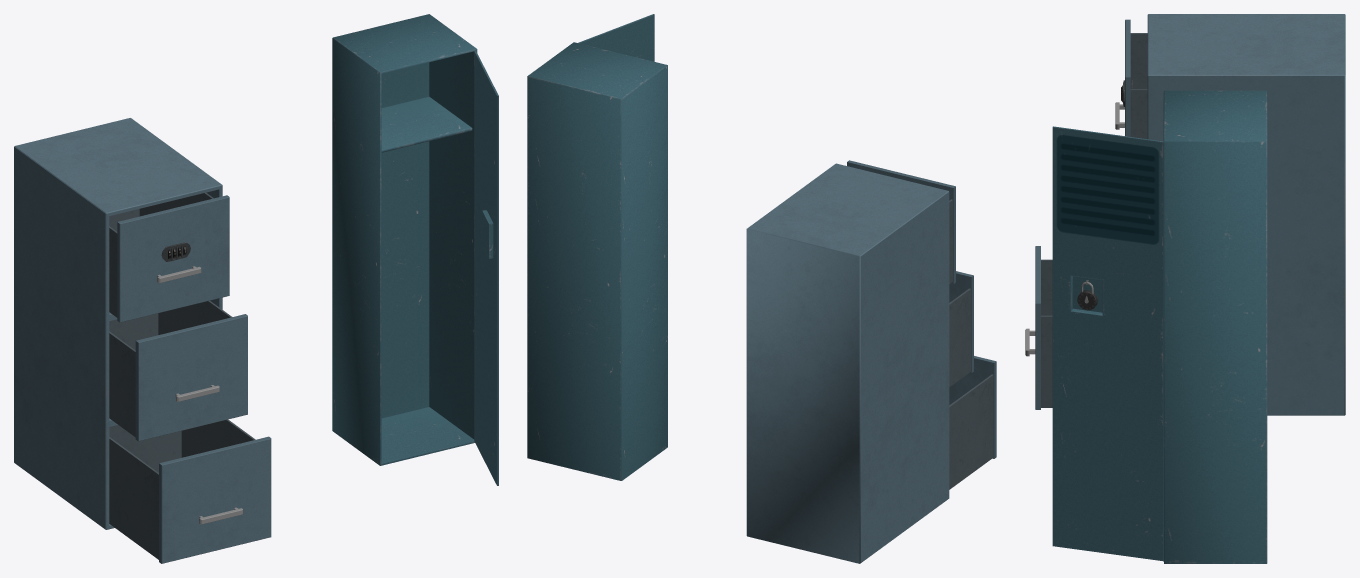
3 renders of one model, left to right at view 1: azimuth 30°, elevation 25°; view 2: azimuth 150°, elevation 25°; view 3: azimuth 270°, elevation 25°, orthographic. The views are drawn at different scales.
Parts seen in each view (by area): view 1: Locker2, Locker1, Drawer_Bottom_Locker1, Drawer_Middle_Locker1, Drawer_Top_Locker1, Door_Locker2; view 2: Locker1, Locker2, Drawer_Bottom_Locker1, Drawer_Middle_Locker1, Door_Locker2, Drawer_Top_Locker1; view 3: Locker2, Door_Locker2, Locker1, Drawer_Bottom_Locker1, Drawer_Top_Locker1.
Part boxes in pixels (bbox=[...]): Locker2: bbox=[332, 14, 477, 465]; Locker1: bbox=[14, 118, 222, 529]; Drawer_Bottom_Locker1: bbox=[109, 419, 271, 563]; Drawer_Middle_Locker1: bbox=[109, 300, 247, 441]; Drawer_Top_Locker1: bbox=[109, 192, 229, 322]; Door_Locker2: bbox=[474, 51, 498, 485]; Locker1: bbox=[746, 163, 949, 563]; Locker2: bbox=[527, 42, 667, 480]; Drawer_Bottom_Locker1: bbox=[949, 356, 996, 489]; Drawer_Middle_Locker1: bbox=[949, 271, 973, 387]; Door_Locker2: bbox=[578, 14, 654, 61]; Drawer_Top_Locker1: bbox=[847, 160, 955, 284]; Locker2: bbox=[1163, 90, 1267, 563]; Door_Locker2: bbox=[1052, 126, 1163, 561]; Locker1: bbox=[1147, 14, 1345, 415]; Drawer_Bottom_Locker1: bbox=[1025, 246, 1052, 409]; Drawer_Top_Locker1: bbox=[1115, 19, 1147, 139].
Bounding box in the file's own units: 2.9 × 2.87 × 1.97.
2 materials, 2 textured.
